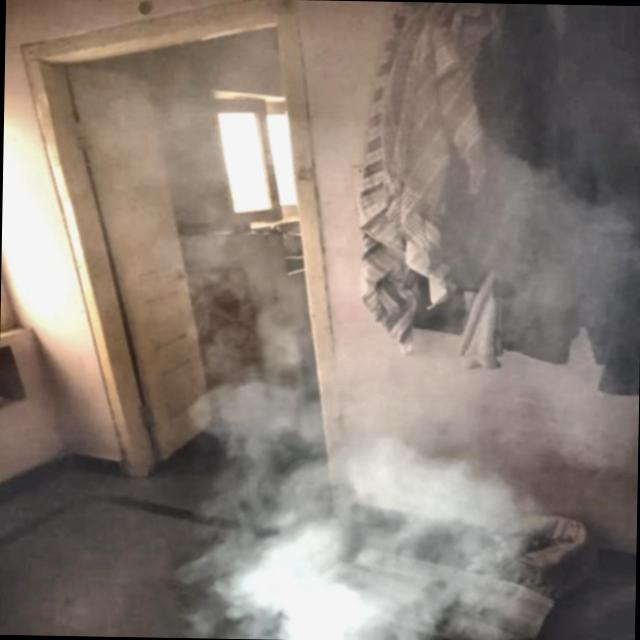smoke: (247, 401, 508, 640)
